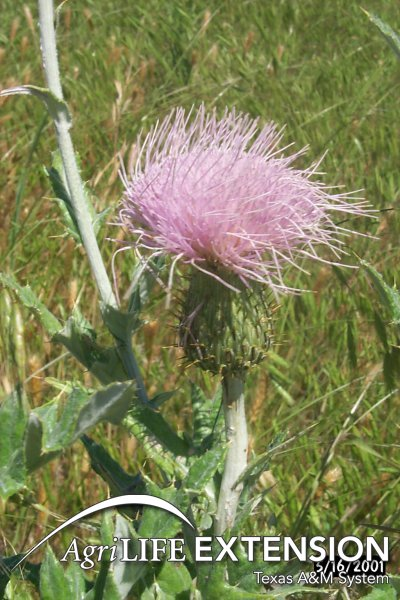thistle: (97, 101, 355, 376)
